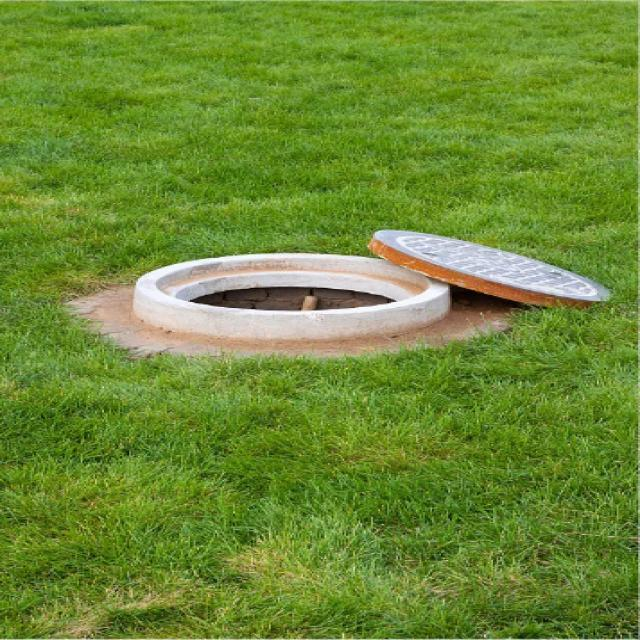manhole: (83, 233, 609, 360)
